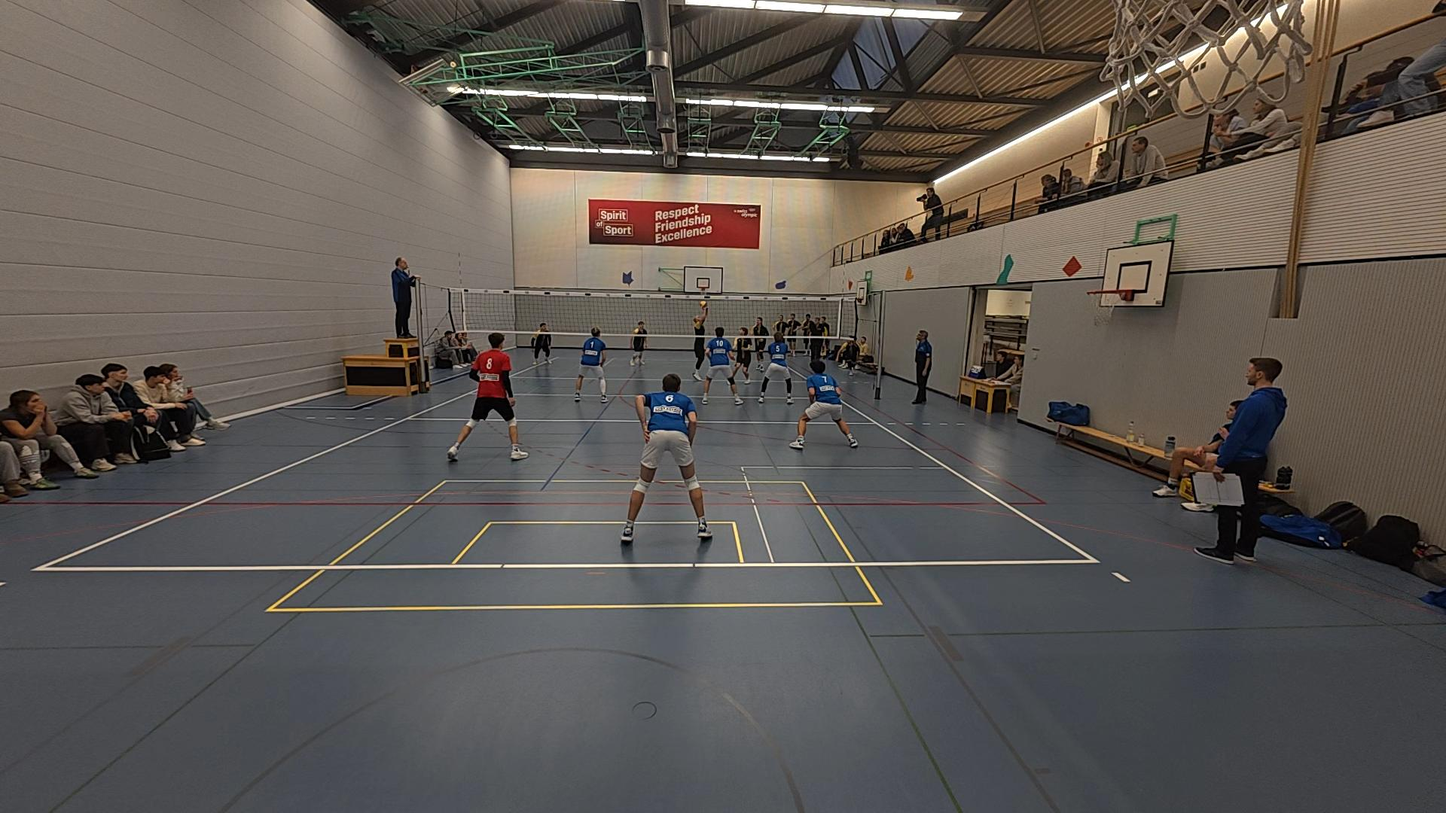Player: (621, 372, 713, 542), (447, 333, 528, 462), (789, 361, 859, 449), (756, 331, 800, 405), (716, 329, 749, 405), (574, 327, 607, 402), (726, 325, 753, 385), (832, 334, 866, 376), (747, 315, 770, 372), (529, 320, 554, 368), (628, 318, 650, 367)
Set: (691, 301, 710, 383)
ball: (698, 297, 709, 309)
